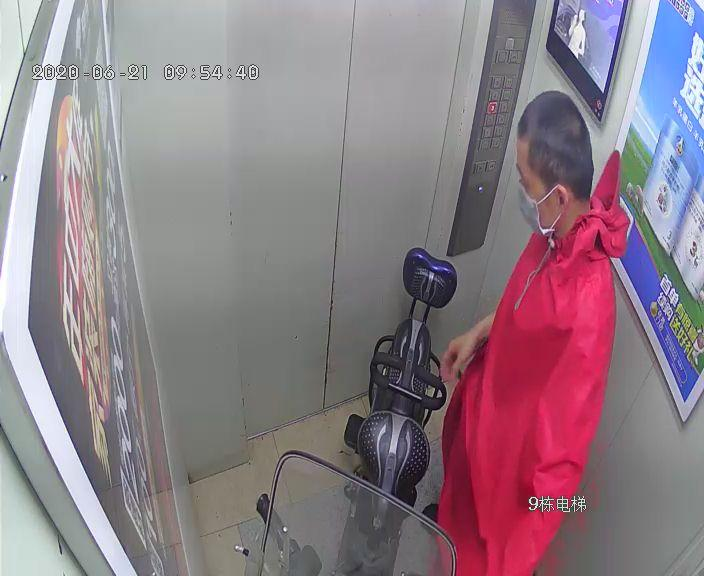Electric-bicycle: (235, 241, 460, 575)
